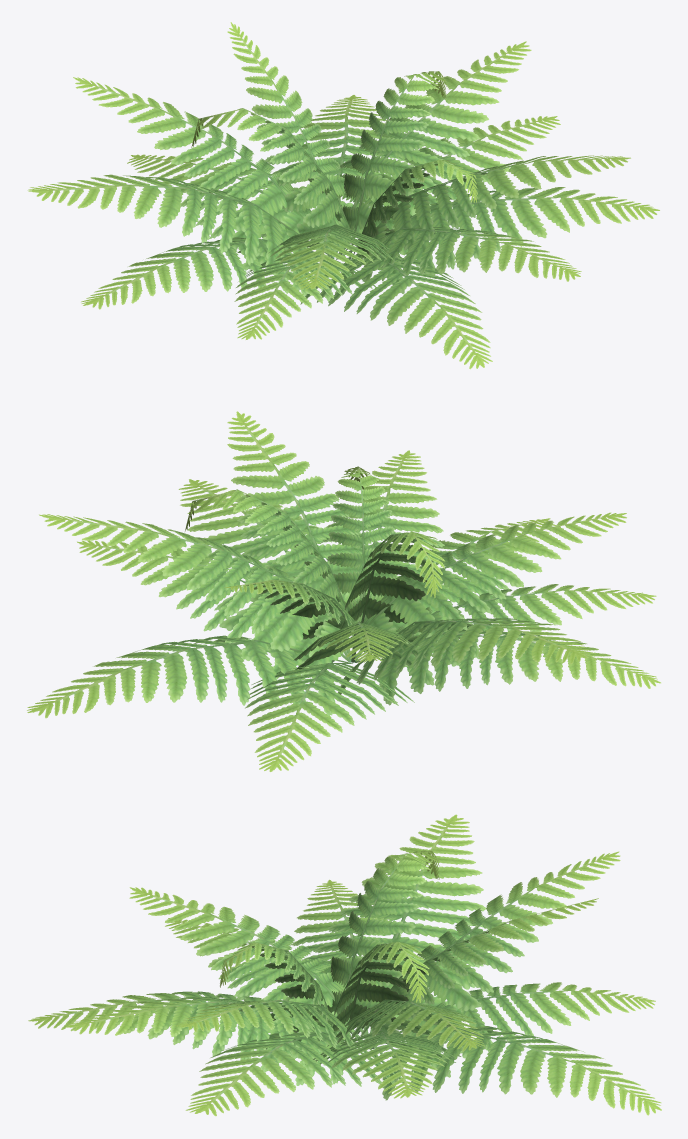
File: SM_ENV_plant_ancient_17_02.fbx
The picture shows the model from 3 angles, top to bottom: view 1: azimuth 30°, elevation 25°; view 2: azimuth 150°, elevation 25°; view 3: azimuth 270°, elevation 25°; orthographic projection. The views are drawn at different scales.
Visible parts, largest first — view 1: SM_ENV_plant_ancient_17_02_LOD0; view 2: SM_ENV_plant_ancient_17_02_LOD0; view 3: SM_ENV_plant_ancient_17_02_LOD0.
Boxes of the visible parts, <box> form: SM_ENV_plant_ancient_17_02_LOD0: <box>27,22,659,369</box>; SM_ENV_plant_ancient_17_02_LOD0: <box>27,411,660,771</box>; SM_ENV_plant_ancient_17_02_LOD0: <box>28,814,661,1116</box>.
Bounding box in the file's own units: 107 × 37.04 × 112.
